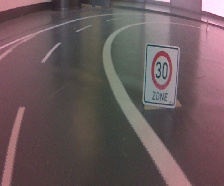zone 30 sign: (143, 39, 180, 109)
